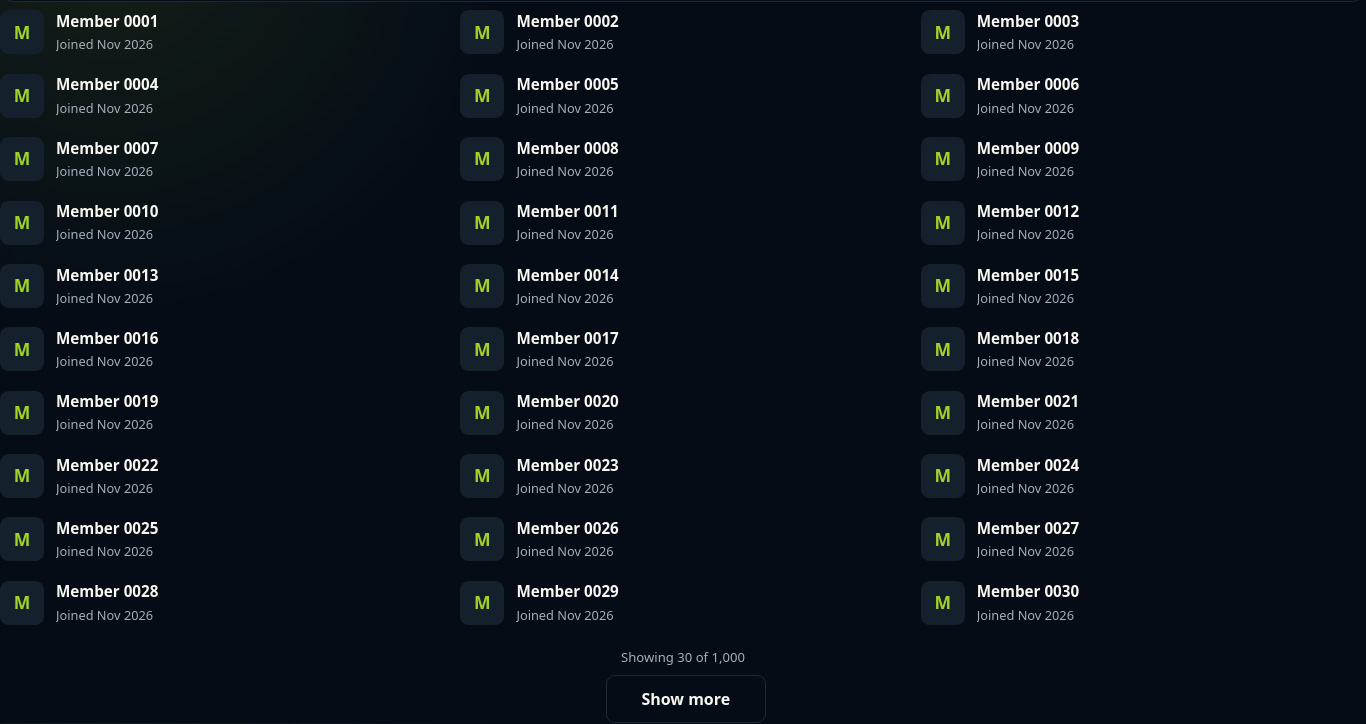
Test: paged member list › shows the first 30 and loads the next 30 after the last name
This screenshot has width=1366, height=724.
Expected: the text "Showing 30 of 1,000" is shown, top-left (621, 647), bottom-right (745, 667)
Click the button "Show more": (686, 699) top-left (606, 675), bottom-right (766, 723)
(page scrolled)
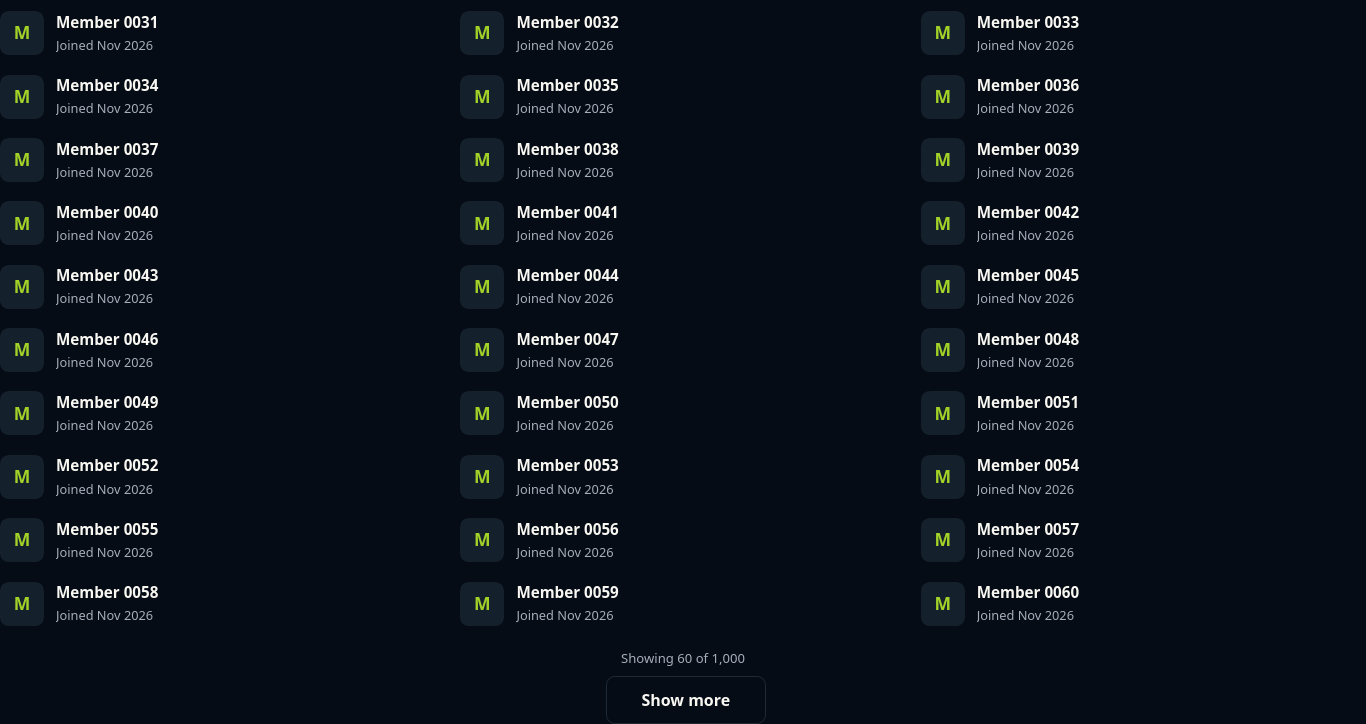
Expected: the text "Showing 60 of 1,000" is shown, top-left (621, 648), bottom-right (745, 668)
